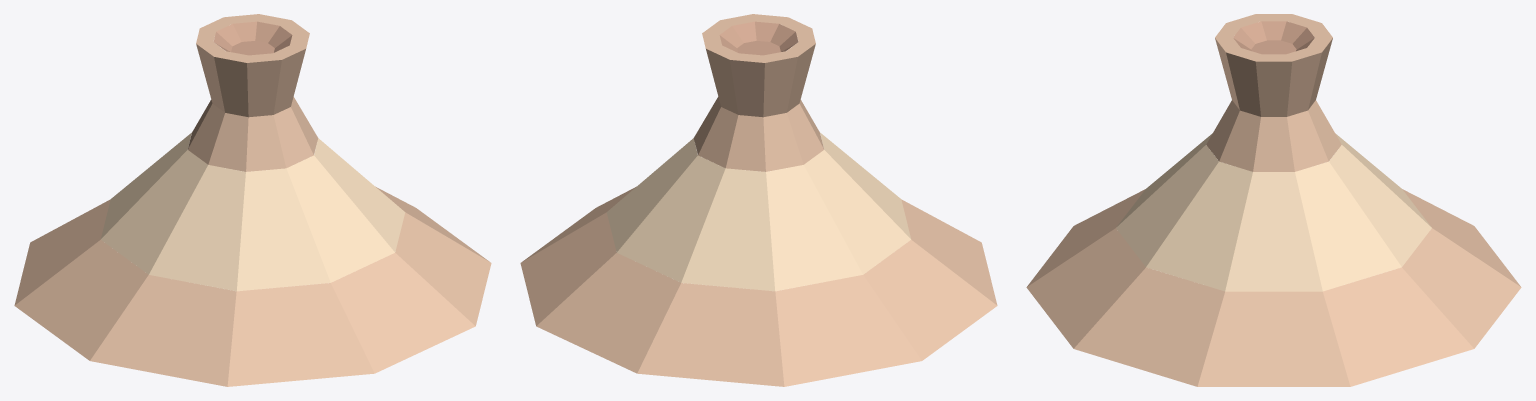
3 renders of one model, left to right at view 1: azimuth 30°, elevation 25°; view 2: azimuth 150°, elevation 25°; view 3: azimuth 270°, elevation 25°, orthographic.
Parts seen in each view (by area): view 1: tajineLid; view 2: tajineLid; view 3: tajineLid.
Part boxes in pixels (<box>): tajineLid: <box>14,14,491,386</box>; tajineLid: <box>520,14,997,386</box>; tajineLid: <box>1026,14,1521,386</box>.
Bounding box in the file's own units: 0.7555 × 0.442 × 0.7943.
